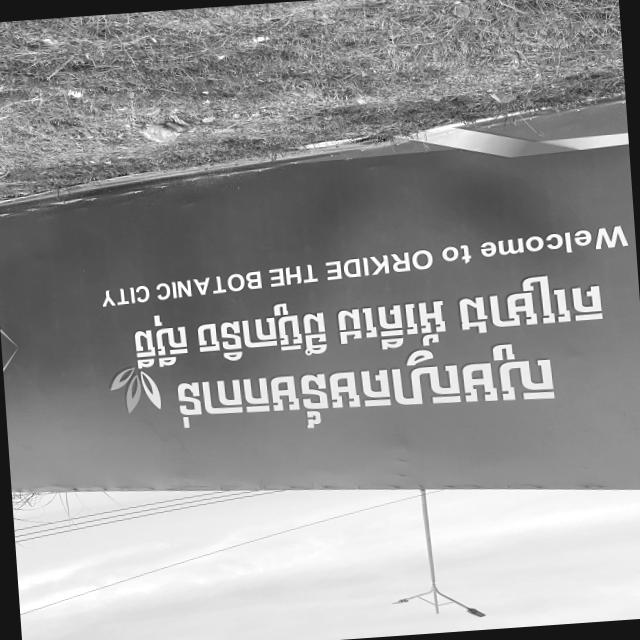3: (114, 270, 610, 380)
Yolov11_80vkh: (169, 332, 565, 444)
